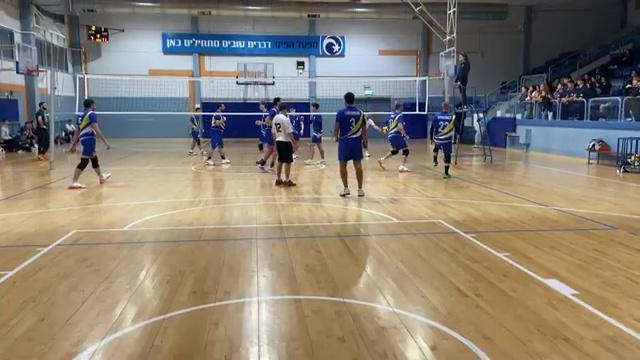ball: (381, 123, 390, 135)
